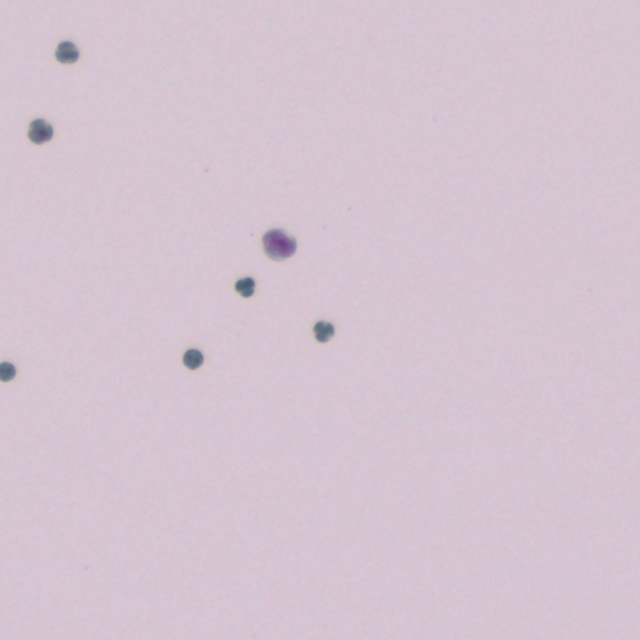intermediate: (263, 229, 295, 257)
non_viable: (28, 120, 53, 143), (55, 41, 78, 62), (313, 321, 333, 341), (183, 349, 202, 368), (235, 277, 254, 296), (0, 362, 15, 380)
